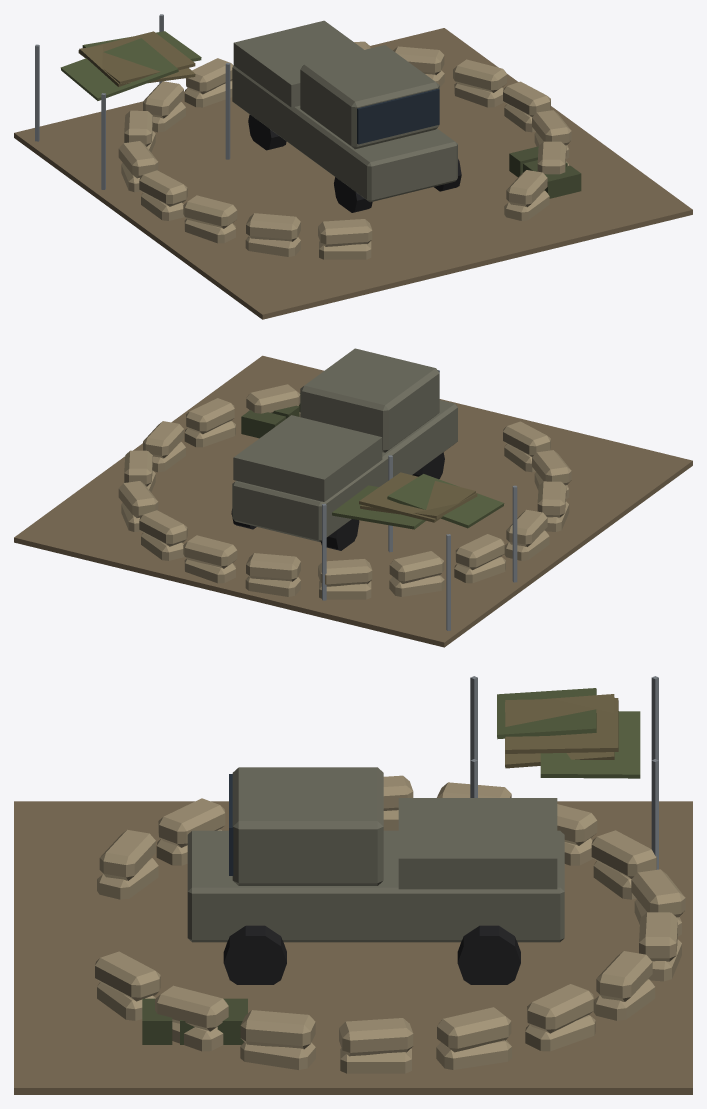
The model's file is mfg.glb.
3 views of the same model, one above another, from view 1: azimuth 30°, elevation 25°; view 2: azimuth 150°, elevation 25°; view 3: azimuth 270°, elevation 25° (orthographic). The views are drawn at different scales.
Visible parts, largest first — view 1: mfg; view 2: mfg; view 3: mfg.
Boxes of the visible parts, bbox=[...] form: mfg: bbox=[14, 14, 692, 319]; mfg: bbox=[14, 348, 692, 647]; mfg: bbox=[14, 676, 692, 1094].
Bounding box in the file's own units: 9 × 2.3 × 9.
